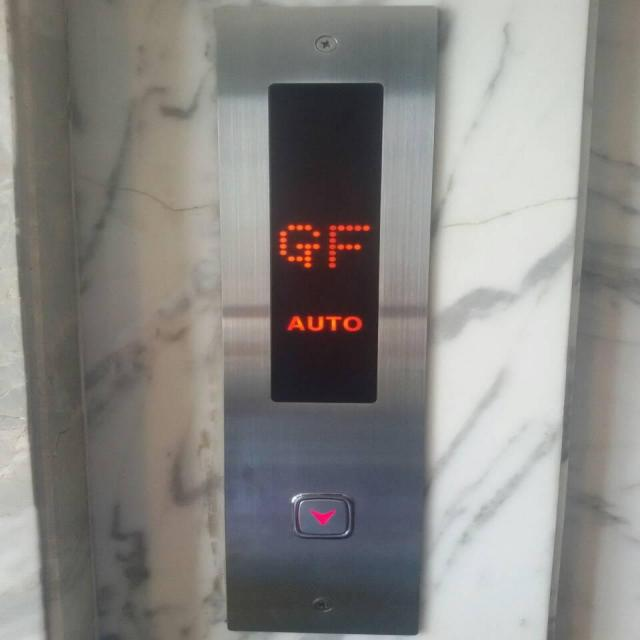down: (288, 489, 357, 544)
led: (261, 77, 386, 407)
